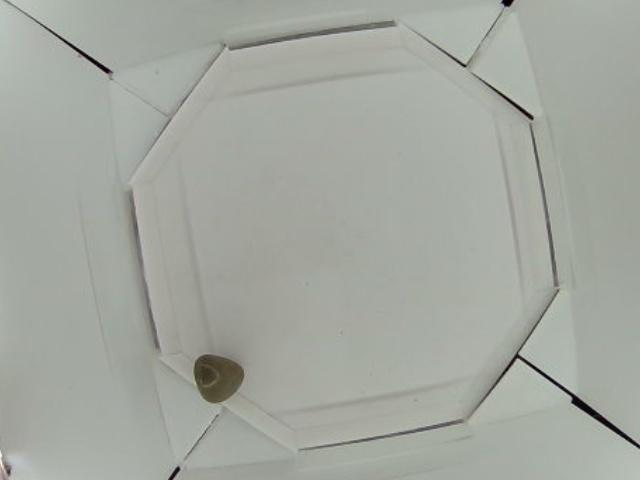Pebble: (195, 353, 240, 402)
